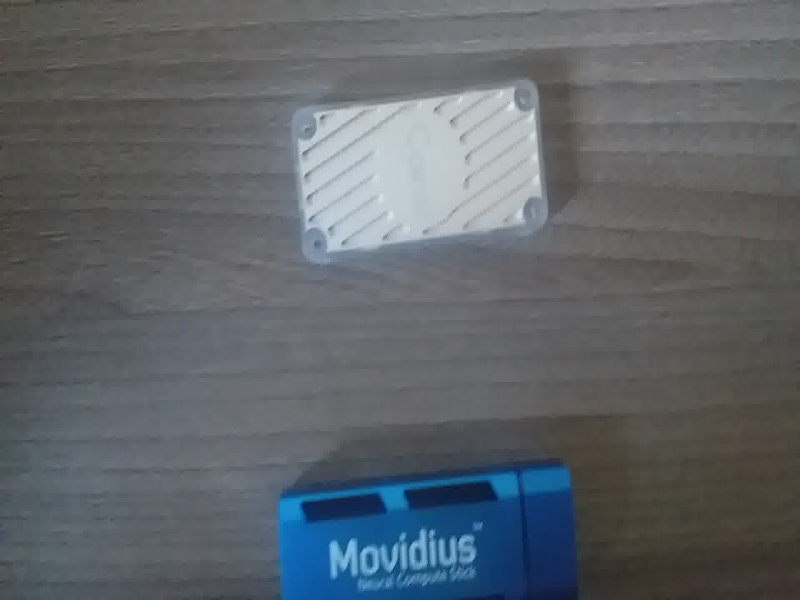coral: (284, 83, 566, 266)
movidius: (273, 458, 591, 600)
